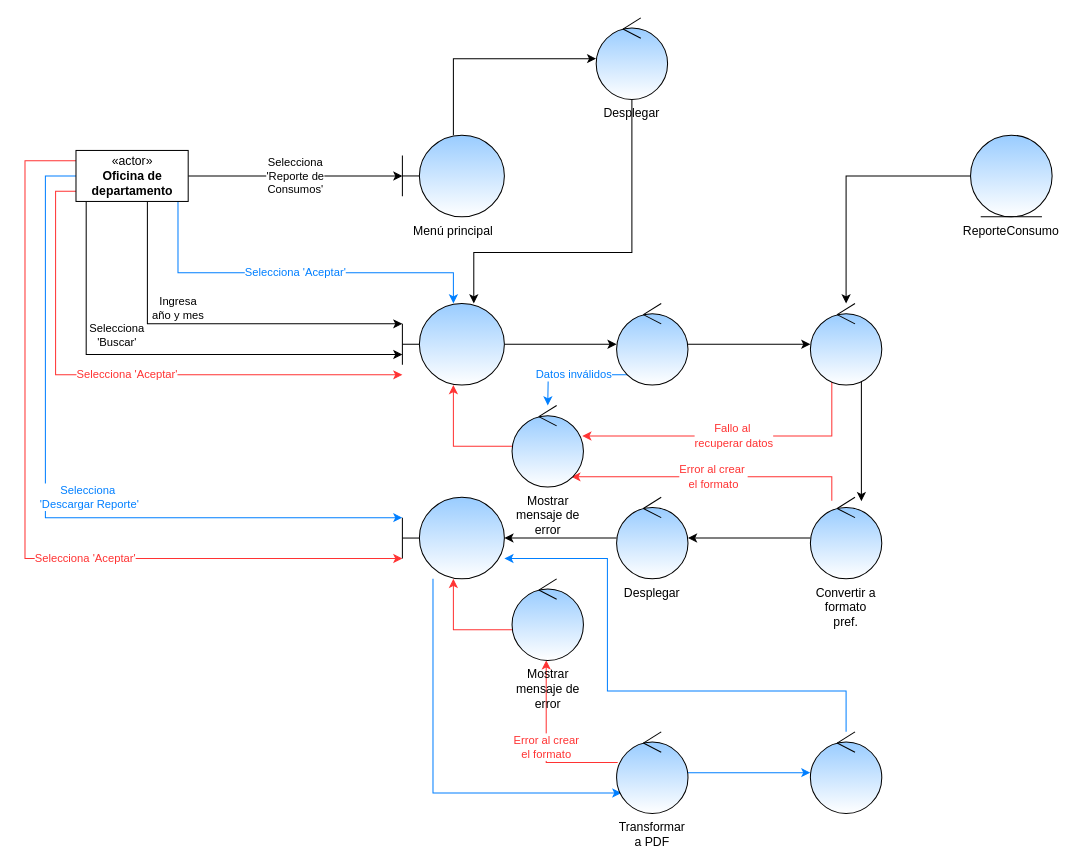
Some shapes in this 1077 by 868 pixel diagram are drawn without their labels. The centre of each missing label's shape, as x and y in pixels:
"Filtro de reporte" belongs at (x=452, y=343).
"Guardar archivo" belongs at (x=845, y=772).
"Recuperar datos" belongs at (x=845, y=343).
"Reporte de Consumos" belongs at (x=452, y=537).
"Validar datos" belongs at (x=652, y=343).
